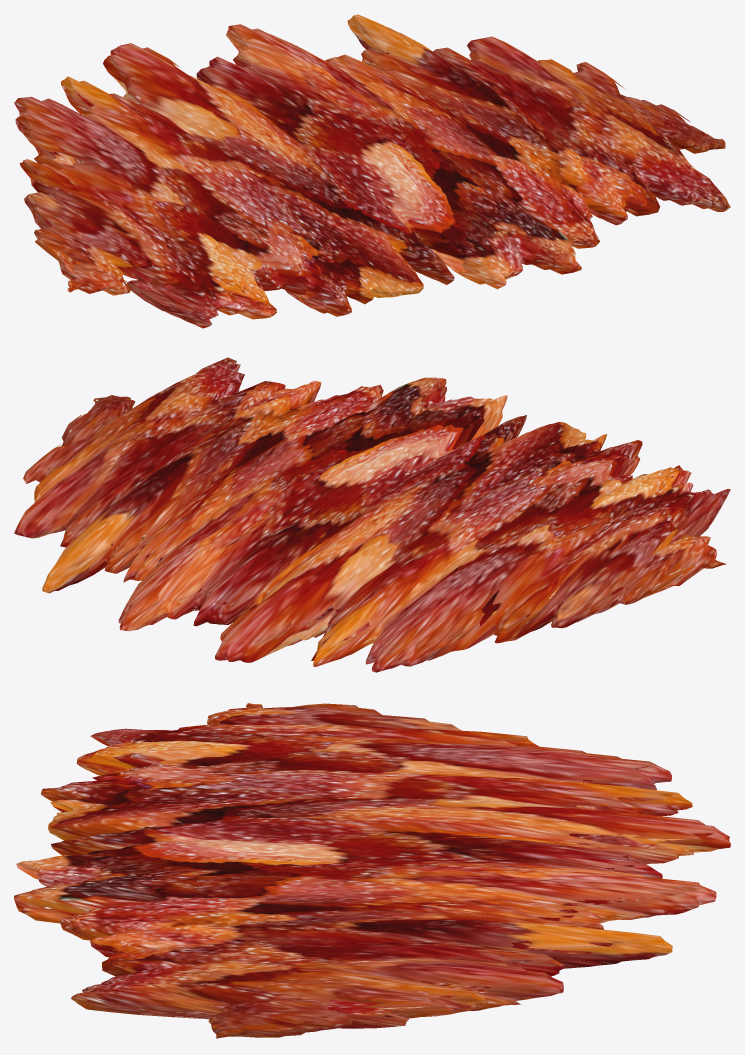
The model's file is bacon-bits.glb.
3 views of the same model, one above another, from view 1: azimuth 30°, elevation 25°; view 2: azimuth 150°, elevation 25°; view 3: azimuth 270°, elevation 25° (orthographic). The views are drawn at different scales.
Visible parts, largest first — view 1: bacon-bits; view 2: bacon-bits; view 3: bacon-bits.
Boxes of the visible parts, <box> form: bacon-bits: <box>14,14,730,328</box>; bacon-bits: <box>14,357,730,672</box>; bacon-bits: <box>14,703,730,1038</box>.
Bounding box in the file's own units: 0.87 × 0.068 × 0.79.
Materials: 1 (1 with a texture image).
